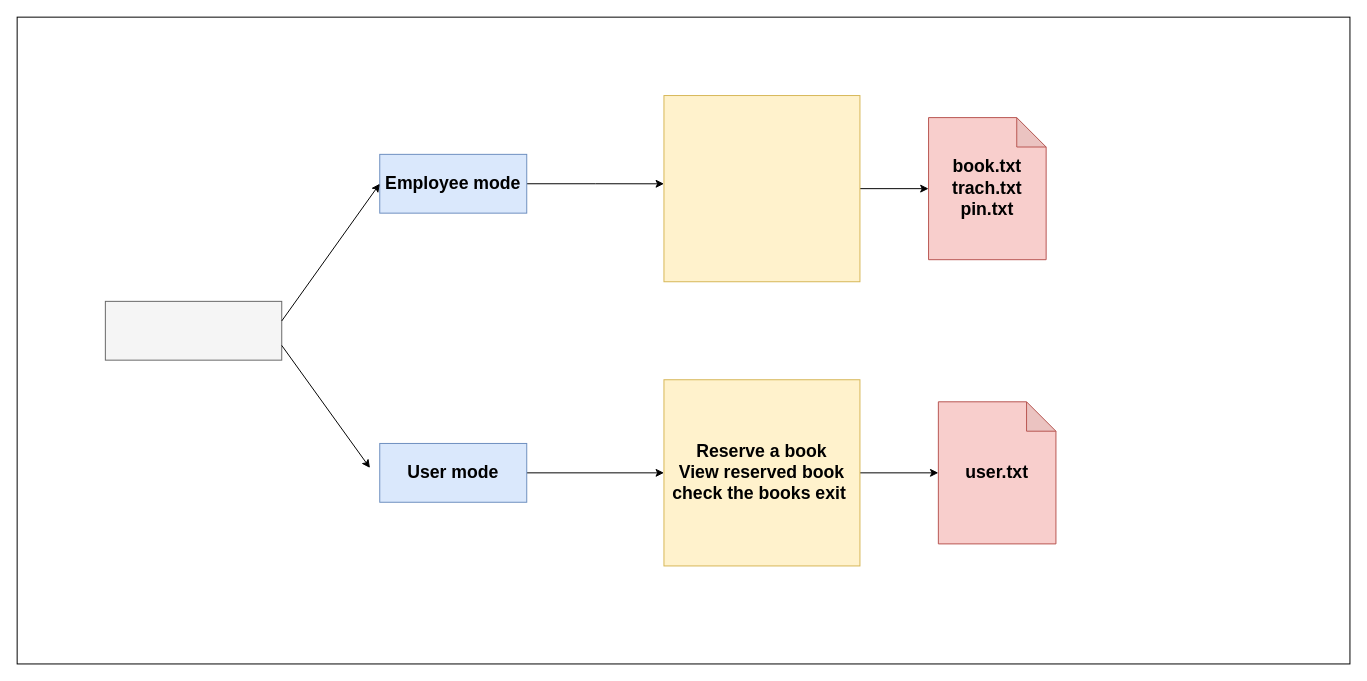
Image size: 1367x681. Some labels were removed from this diagram. Here are the shapes that lost their labels. From the top down, the centre of each, then its label:
[761,188]: add book search a book edit a book pin a book display the books delete book
[193,330]: ./main
